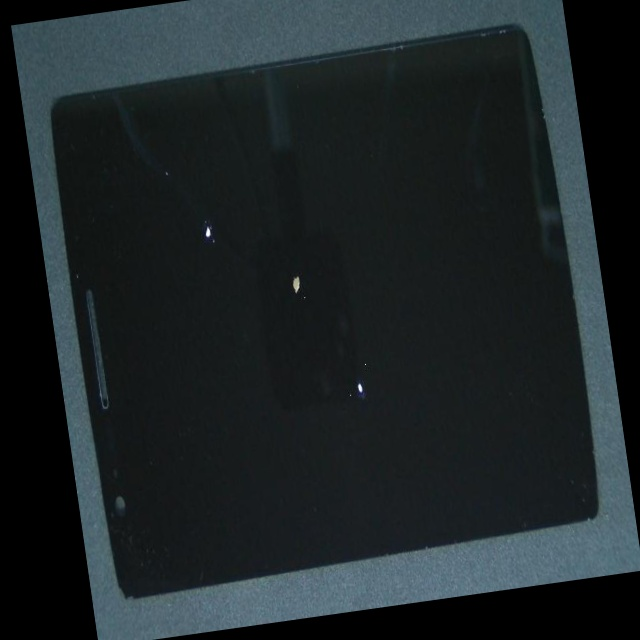stain: (197, 120, 523, 580), (167, 89, 425, 417), (113, 76, 293, 344)
